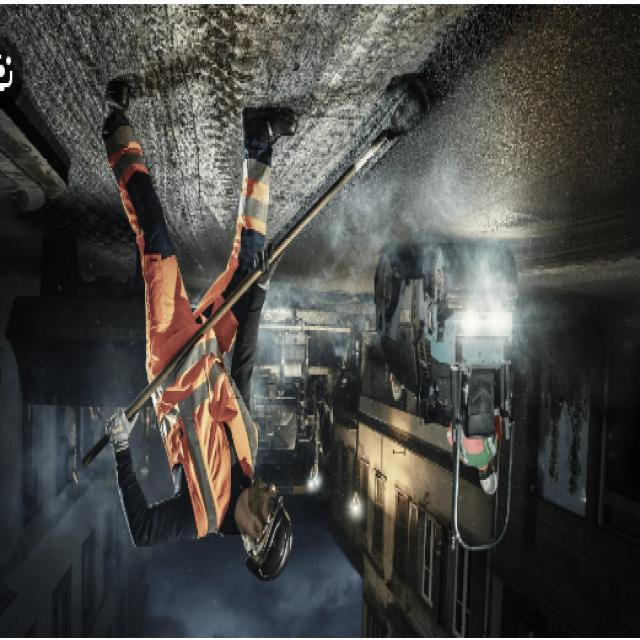hard_hat: (241, 473, 299, 586)
shoes: (98, 73, 302, 173)
vest: (146, 325, 262, 556)
